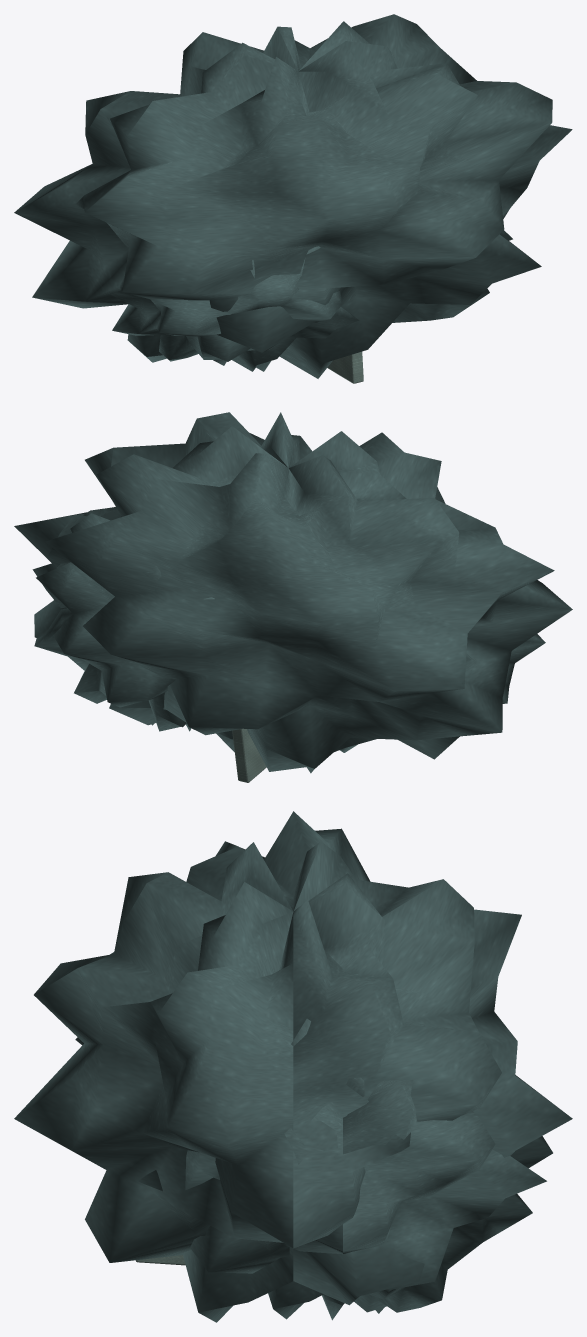
Rendered from rock.glb.
3 renders of one model, top to bottom at view 1: azimuth 30°, elevation 25°; view 2: azimuth 150°, elevation 25°; view 3: azimuth 270°, elevation 25°, orthographic. The views are drawn at different scales.
Parts seen in each view (by area): view 1: rock; view 2: rock; view 3: rock.
Part boxes in pixels (x1,y1,x2,y2): rock: [14, 14, 572, 383]; rock: [14, 412, 572, 782]; rock: [14, 811, 572, 1322].
Size of the model in its own units: 2.99 by 1.78 by 2.16.
1 material, 1 textured.
